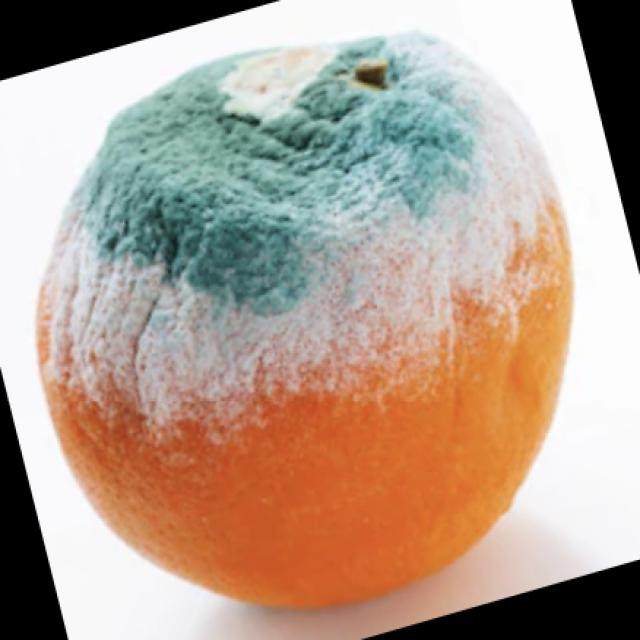sedikit_busuk: (28, 20, 570, 606)
